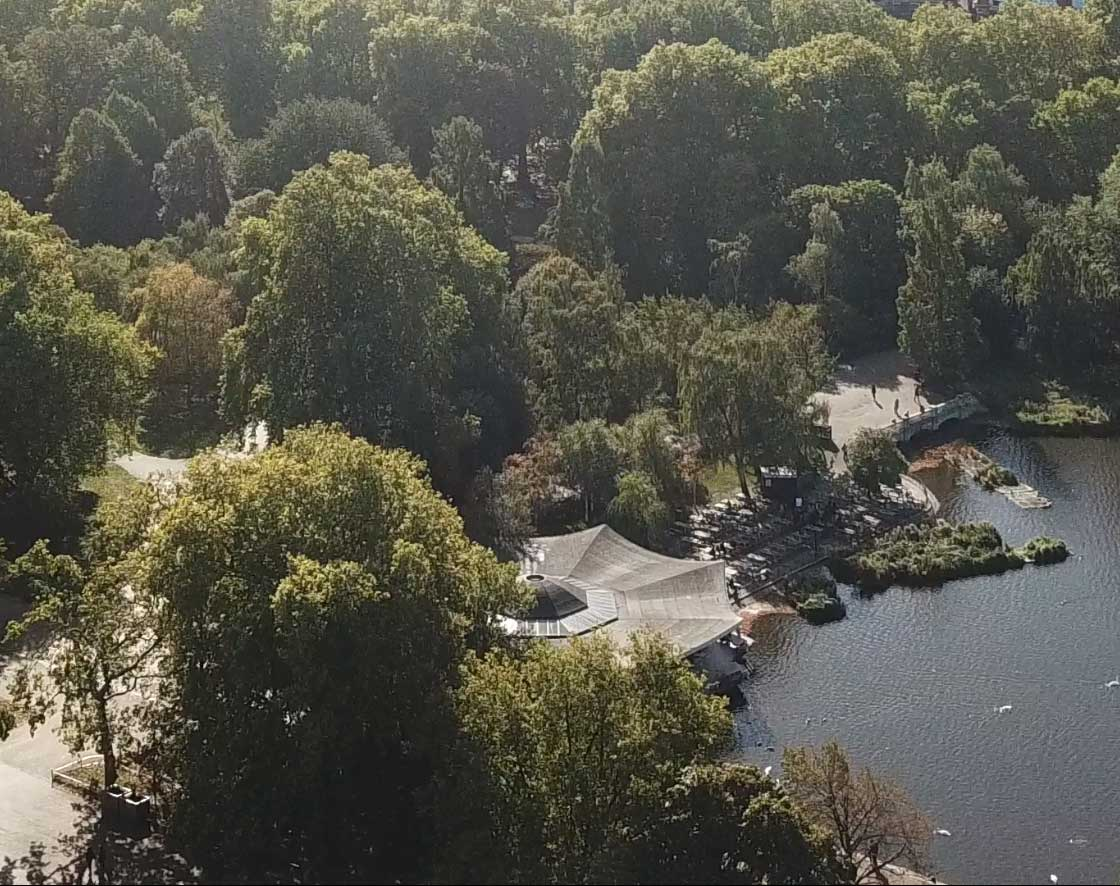building: (464, 518, 775, 711)
road: (815, 352, 929, 445)
tree: (9, 531, 191, 873)
trees: (2, 1, 805, 396), (817, 12, 1120, 374)
